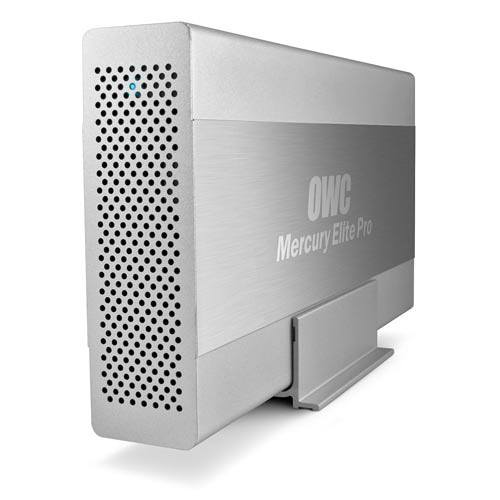Hard Disk Enclosure: (66, 13, 460, 462)
